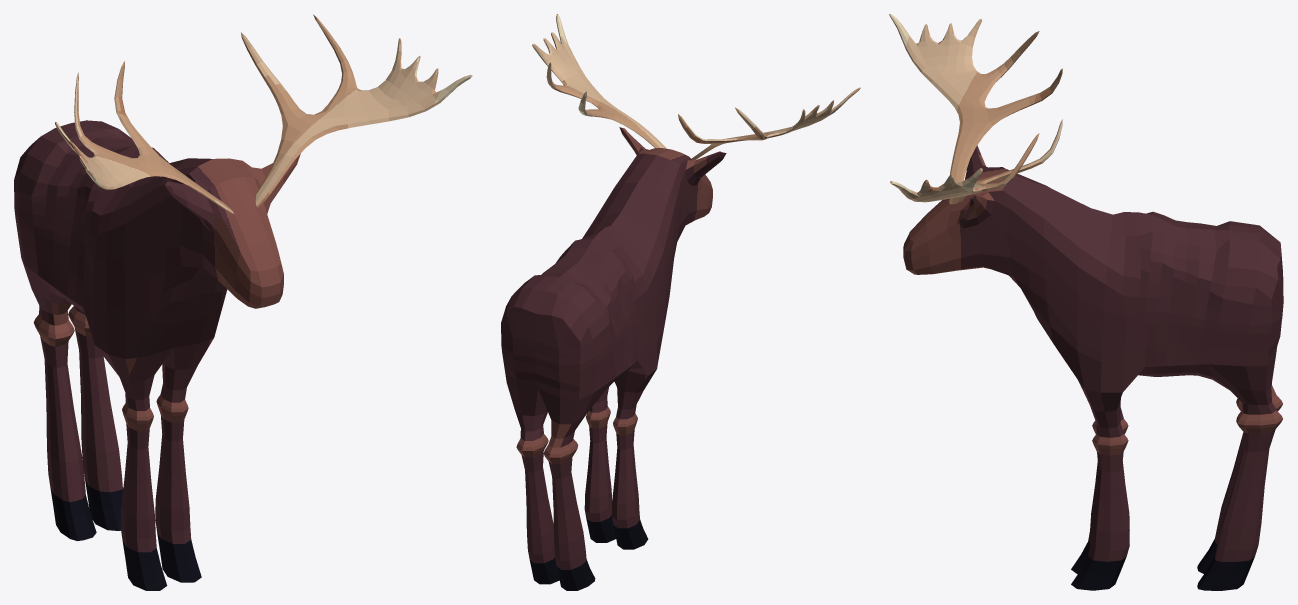
The model's file is moosehead.fbx.
The picture shows the model from 3 angles, left to right: view 1: azimuth 30°, elevation 25°; view 2: azimuth 150°, elevation 25°; view 3: azimuth 270°, elevation 25°; orthographic projection. The views are drawn at different scales.
Visible parts, largest first — view 1: body, legs, antlers, head; view 2: body, legs, antlers, head; view 3: body, legs, antlers, head.
Part boxes in pixels (left/top/right/bottom): body: left=14, top=120, right=227, bottom=359; legs: left=32, top=290, right=213, bottom=590; antlers: left=55, top=14, right=472, bottom=213; head: left=165, top=153, right=300, bottom=308; body: left=501, top=153, right=681, bottom=424; legs: left=515, top=369, right=656, bottom=590; antlers: left=532, top=14, right=860, bottom=160; head: left=619, top=127, right=726, bottom=241; body: left=1003, top=169, right=1283, bottom=392; legs: left=1071, top=380, right=1282, bottom=590; antlers: left=889, top=14, right=1062, bottom=204; head: left=903, top=145, right=1013, bottom=276.
Bounding box in the file's own units: 304 × 418 × 302.
